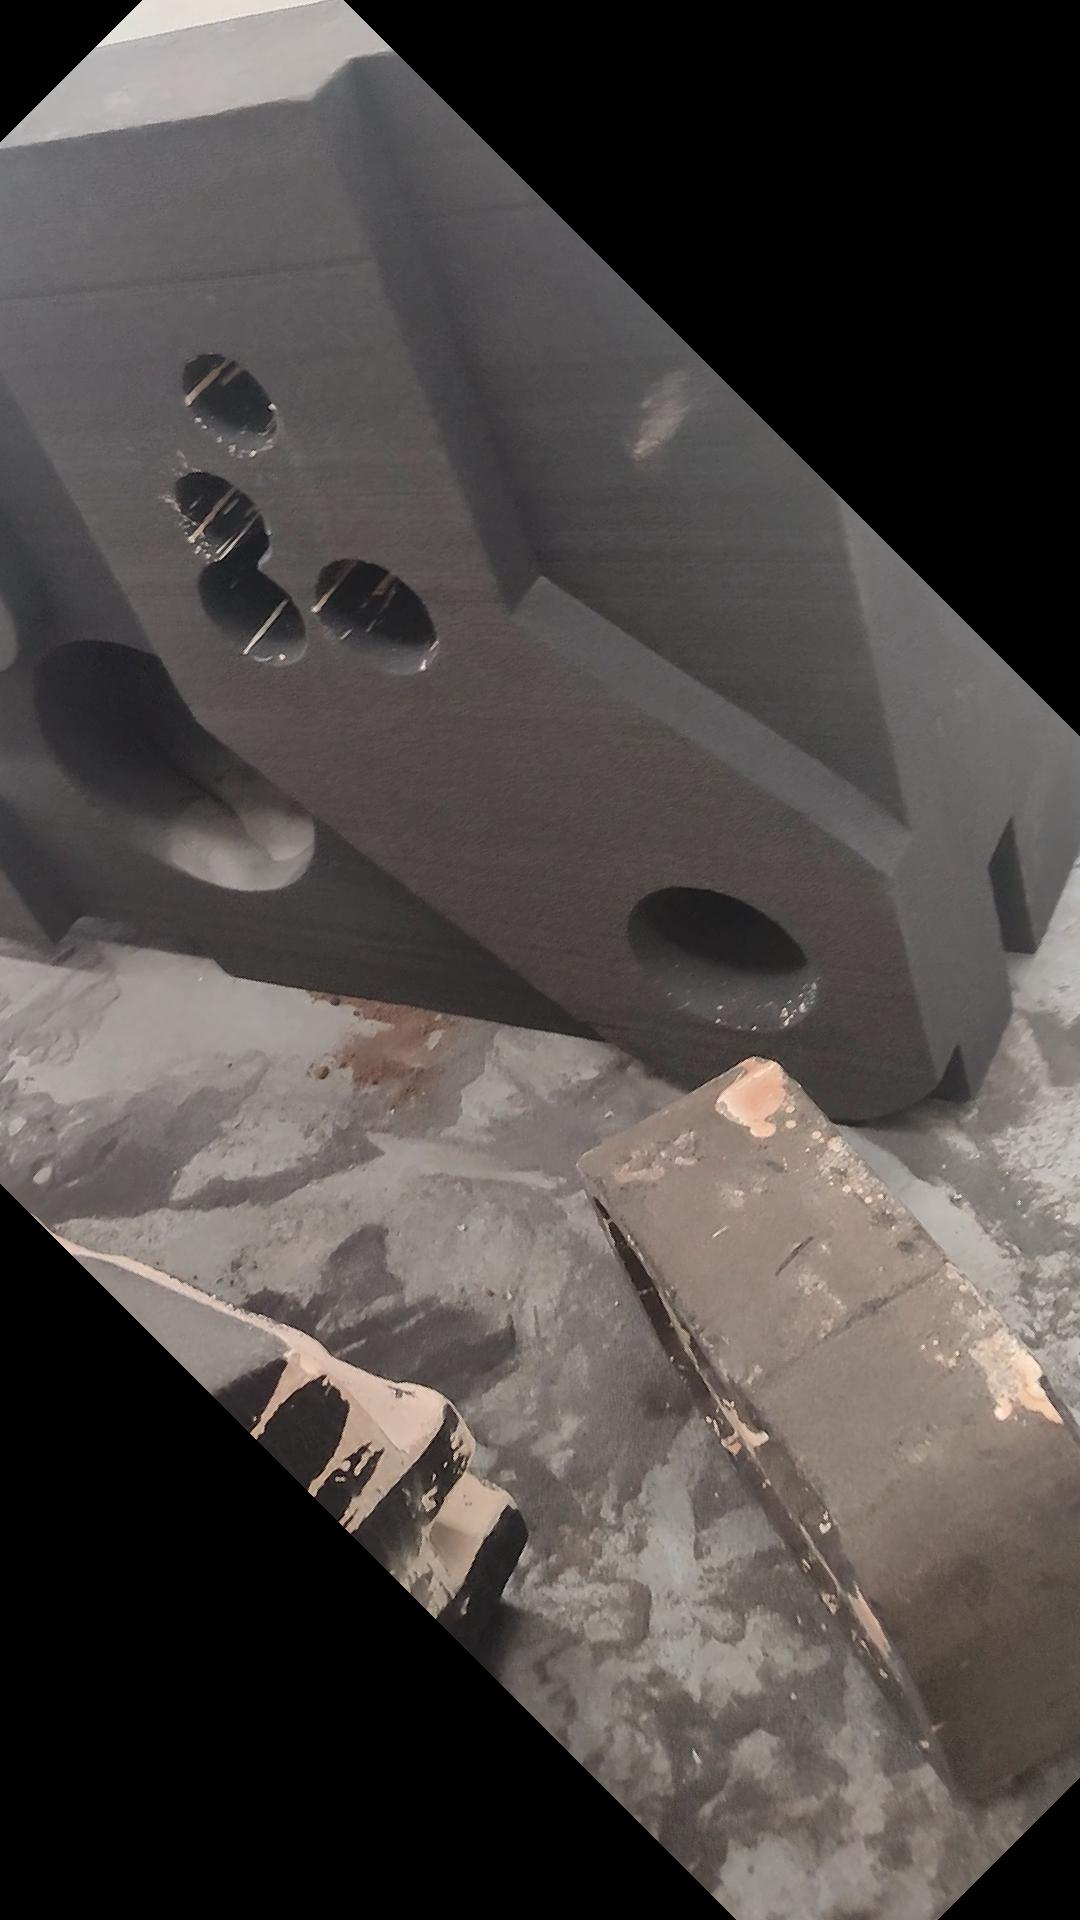pouring hole: (624, 886, 820, 1036)
